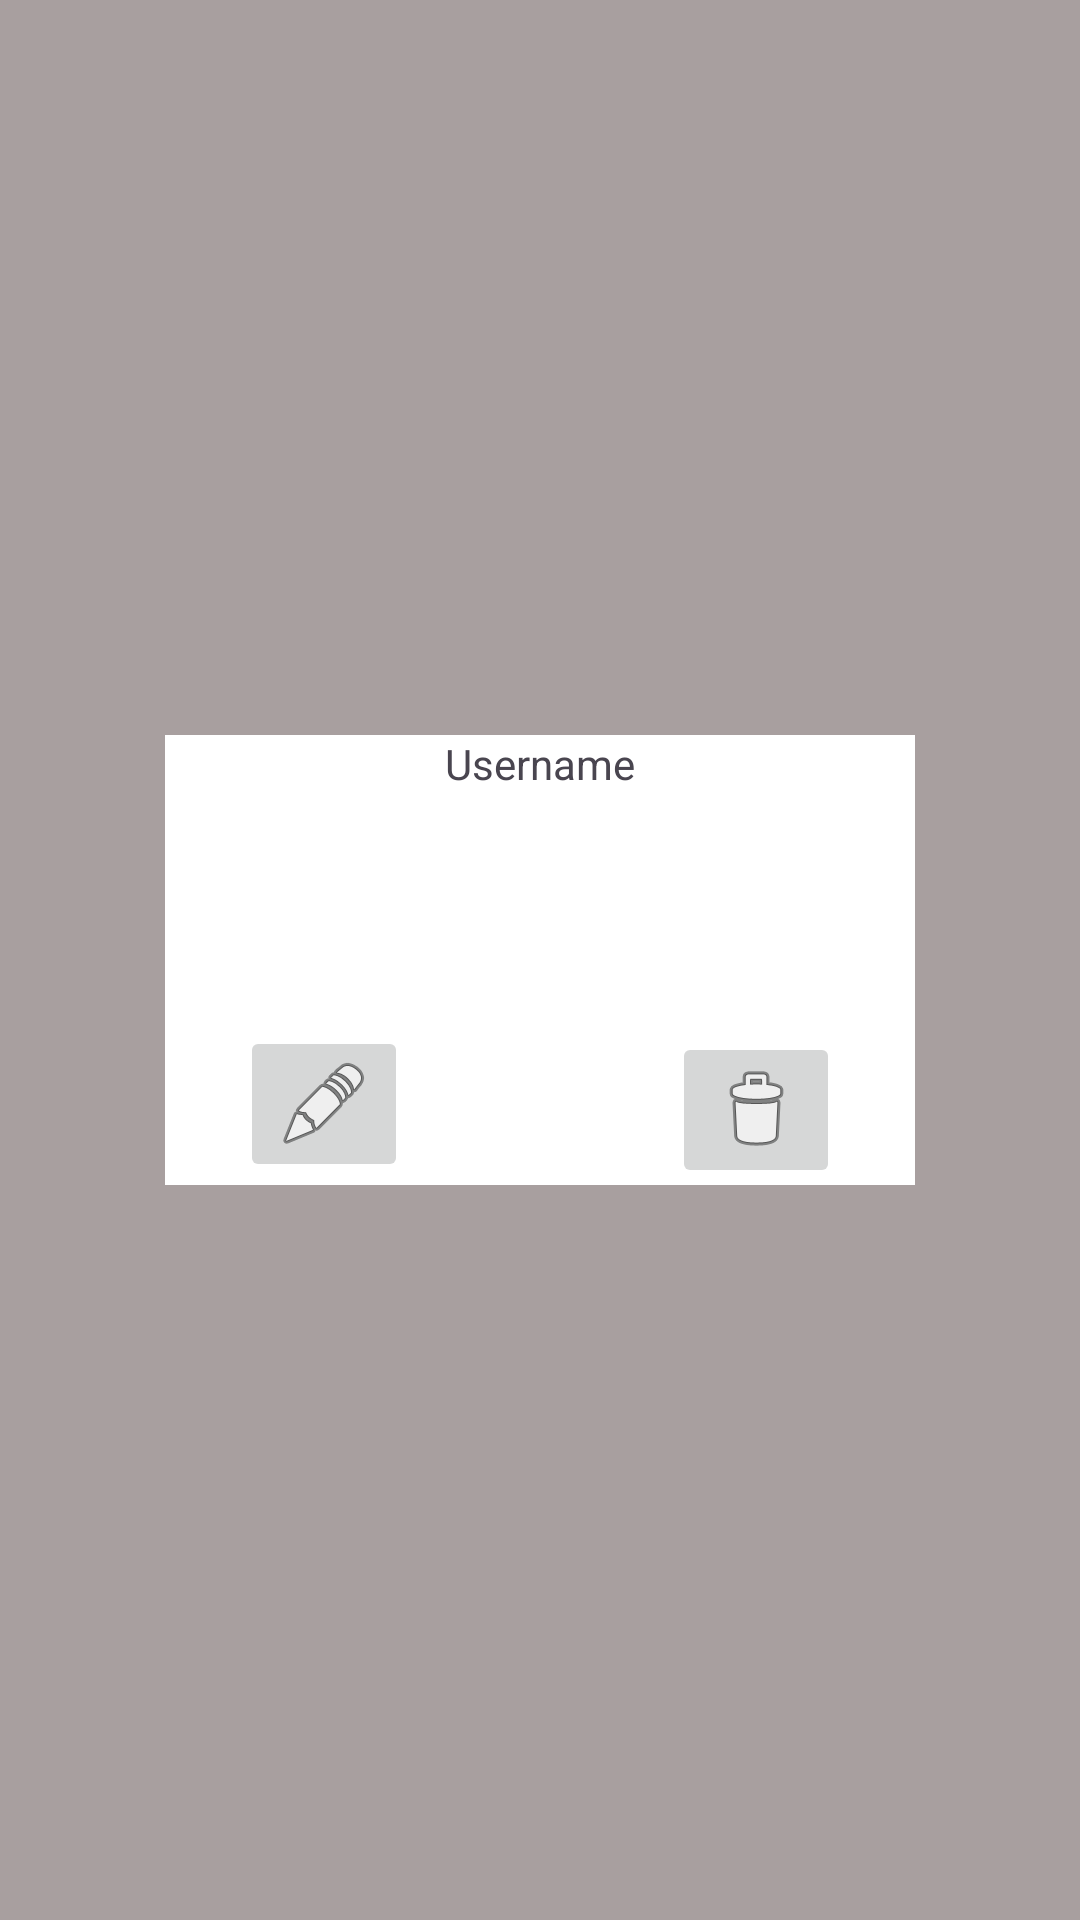

Named icons in this screenshot (1080*1920) and their bounding boxes, (x1, y1, x2, y2):
delete: (684, 1050, 828, 1170)
edit: (252, 1044, 396, 1164)
